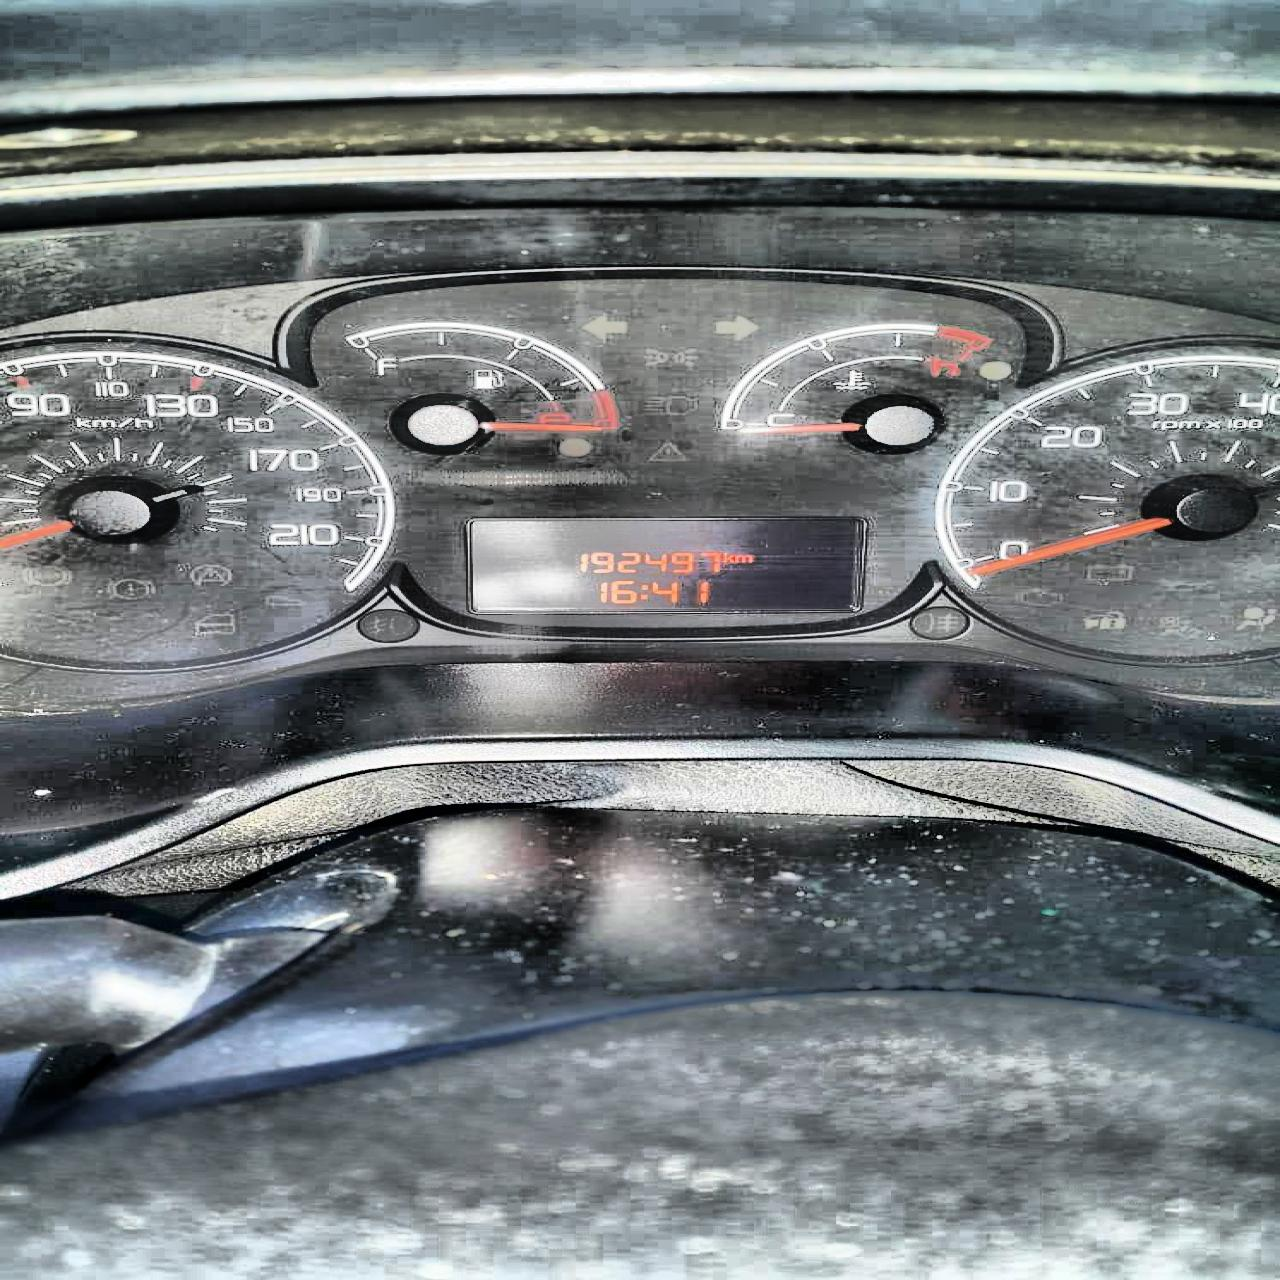1: (697, 579, 712, 606), (576, 551, 590, 572), (598, 579, 608, 602)
2: (615, 550, 641, 574)
4: (651, 579, 680, 602), (641, 551, 666, 572)
6: (610, 579, 634, 604)
7: (700, 550, 720, 571)
9: (669, 551, 693, 573), (591, 551, 614, 572)
X: (639, 580, 648, 604), (734, 553, 750, 563), (723, 551, 734, 564)
odometer: (464, 515, 869, 614)
